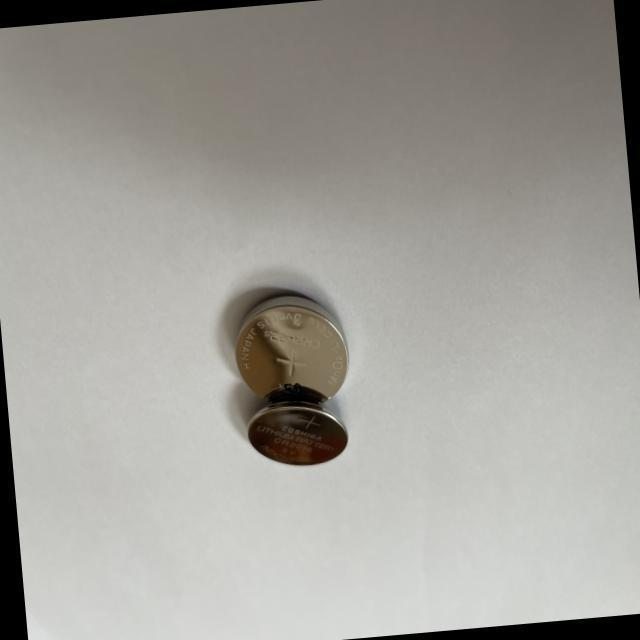COIN: (228, 288, 352, 412), (242, 391, 349, 470)
